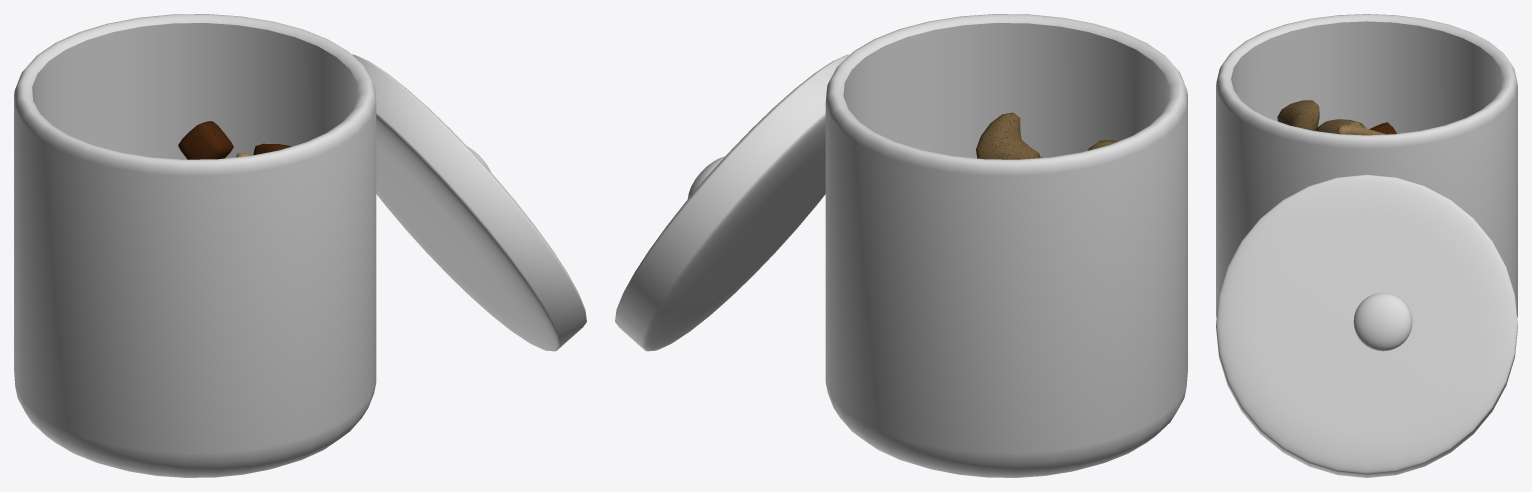
Rendered from FoodCan.fbx.
3 renders of one model, left to right at view 1: azimuth 30°, elevation 25°; view 2: azimuth 150°, elevation 25°; view 3: azimuth 270°, elevation 25°, orthographic. The views are drawn at different scales.
Visible parts, largest first — view 1: FoodCan; view 2: FoodCan; view 3: FoodCan.
Part boxes in pixels (x1,y1,x2,y2): FoodCan: (14,14,586,477); FoodCan: (615,14,1187,477); FoodCan: (1216,14,1517,477).
Size of the model in its own units: 15.48 by 9.53 by 9.56.
